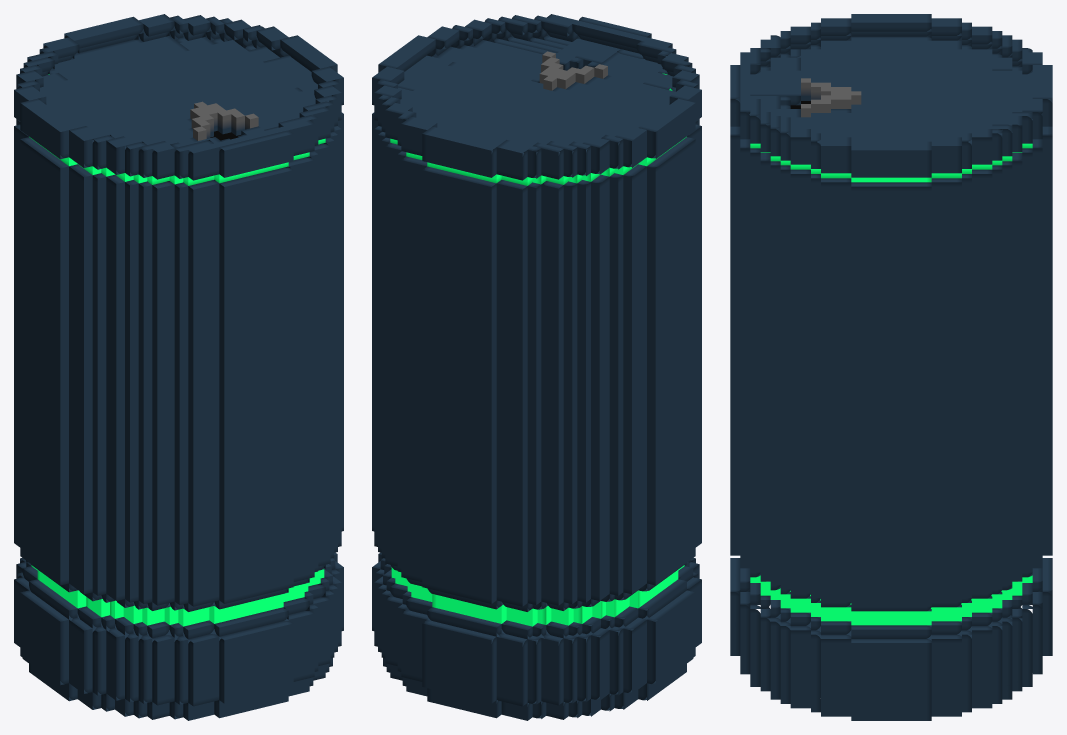
File: Beczka.dae
The picture shows the model from 3 angles, left to right: view 1: azimuth 30°, elevation 25°; view 2: azimuth 150°, elevation 25°; view 3: azimuth 270°, elevation 25°; orthographic projection.
Parts seen in each view (by area): view 1: Beczka; view 2: Beczka; view 3: Beczka.
Boxes of the visible parts, x1=… form: Beczka: x1=14, y1=14, x2=343, y2=720; Beczka: x1=372, y1=14, x2=701, y2=720; Beczka: x1=730, y1=14, x2=1052, y2=720.
Size of the model in its own units: 32 by 63 by 32.
Materials: 1 (1 with a texture image).
